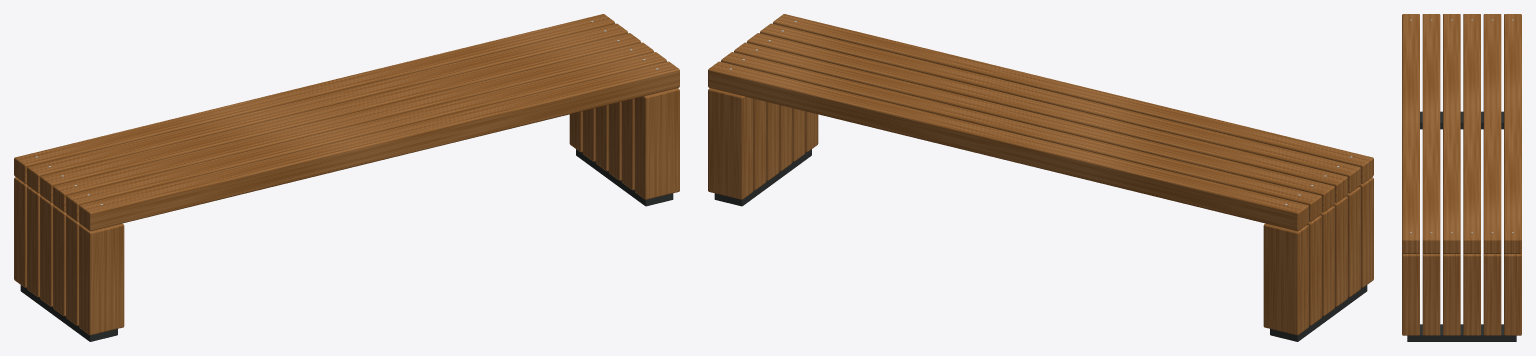
Rendered from nu-timber-waterfall-bench.glb.
3 views of the same model, side by side, from view 1: azimuth 30°, elevation 25°; view 2: azimuth 150°, elevation 25°; view 3: azimuth 270°, elevation 25° (orthographic). The views are drawn at different scales.
Parts seen in each view (by area): view 1: Bench / full length seat board 00, Bench / full length seat board 05, Bench / full length seat board 02, Bench / full length seat board 04, Bench / full length seat board 01, Bench / full length seat board 03, Bench / timber waterfall end, Bench / timber waterfall end.001, Bench / timber waterfall end.006, Bench / timber waterfall end.002, Bench / timber waterfall end.010, Bench / timber waterfall end.008 (+8 smaller); view 2: Bench / full length seat board 05, Bench / full length seat board 00, Bench / full length seat board 03, Bench / full length seat board 01, Bench / full length seat board 02, Bench / full length seat board 04, Bench / timber waterfall end.010, Bench / timber waterfall end.011, Bench / timber waterfall end.004, Bench / timber waterfall end, Bench / timber waterfall end.008, Bench / timber waterfall end.002 (+8 smaller); view 3: Bench / full length seat board 01, Bench / full length seat board 04, Bench / full length seat board 00, Bench / full length seat board 02, Bench / full length seat board 03, Bench / full length seat board 05, Bench / timber waterfall end.003, Bench / timber waterfall end.009, Bench / timber waterfall end.001, Bench / timber waterfall end.011, Bench / timber waterfall end.005, Bench / timber waterfall end.007 (+2 smaller).
Part boxes in pixels (x1,y1,x2,y2): Bench / full length seat board 00: (79,61,679,231); Bench / full length seat board 05: (14,14,614,183); Bench / full length seat board 02: (53,42,653,212); Bench / full length seat board 04: (27,23,627,193); Bench / full length seat board 01: (66,52,666,221); Bench / full length seat board 03: (40,33,640,202); Bench / timber waterfall end: (79,223,124,335); Bench / timber waterfall end.001: (634,88,679,199); Bench / timber waterfall end.006: (40,196,54,306); Bench / timber waterfall end.002: (66,215,80,325); Bench / timber waterfall end.010: (14,177,28,287); Bench / timber waterfall end.008: (27,187,41,297); Bench / full length seat board 05: (708,61,1308,231); Bench / full length seat board 00: (773,14,1373,183); Bench / full length seat board 03: (734,42,1334,212); Bench / full length seat board 01: (760,23,1360,193); Bench / full length seat board 02: (747,33,1347,202); Bench / full length seat board 04: (721,52,1321,221); Bench / timber waterfall end.010: (1263,223,1308,335); Bench / timber waterfall end.011: (708,88,753,199); Bench / timber waterfall end.004: (1333,196,1347,306); Bench / timber waterfall end: (1359,177,1373,287); Bench / timber waterfall end.008: (1307,215,1321,325); Bench / timber waterfall end.002: (1346,187,1360,297); Bench / full length seat board 01: (1422,14,1440,253); Bench / full length seat board 04: (1483,14,1501,253); Bench / full length seat board 00: (1402,14,1419,253); Bench / full length seat board 02: (1443,14,1460,253); Bench / full length seat board 03: (1463,14,1480,253); Bench / full length seat board 05: (1504,14,1521,253); Bench / timber waterfall end.003: (1422,253,1440,335); Bench / timber waterfall end.009: (1483,253,1501,335); Bench / timber waterfall end.001: (1402,253,1419,335); Bench / timber waterfall end.011: (1504,253,1521,335); Bench / timber waterfall end.005: (1443,254,1460,335); Bench / timber waterfall end.007: (1463,254,1480,335).
Size of the model in its own units: 2.1 by 0.451 by 0.47.
3 materials, 1 textured.
